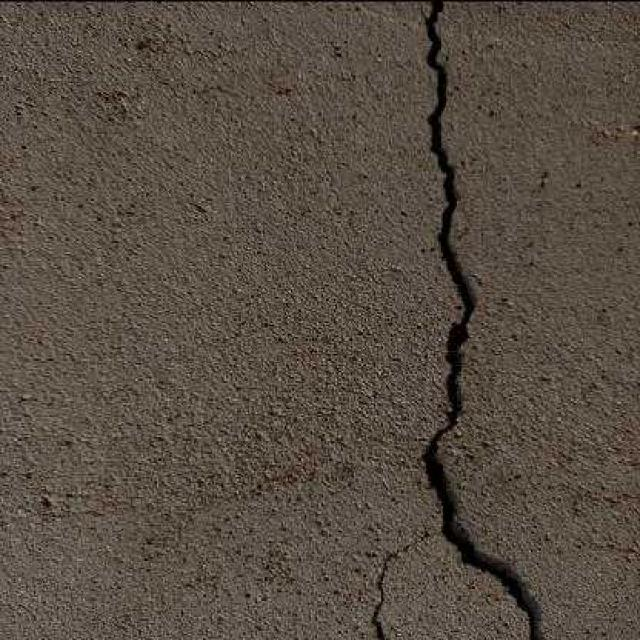D00: (422, 3, 538, 639), (369, 533, 428, 639)
